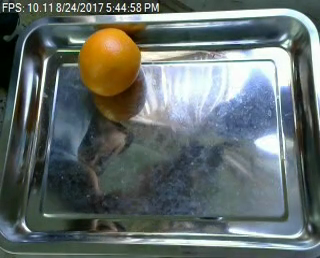Orange: (76, 25, 141, 94)
